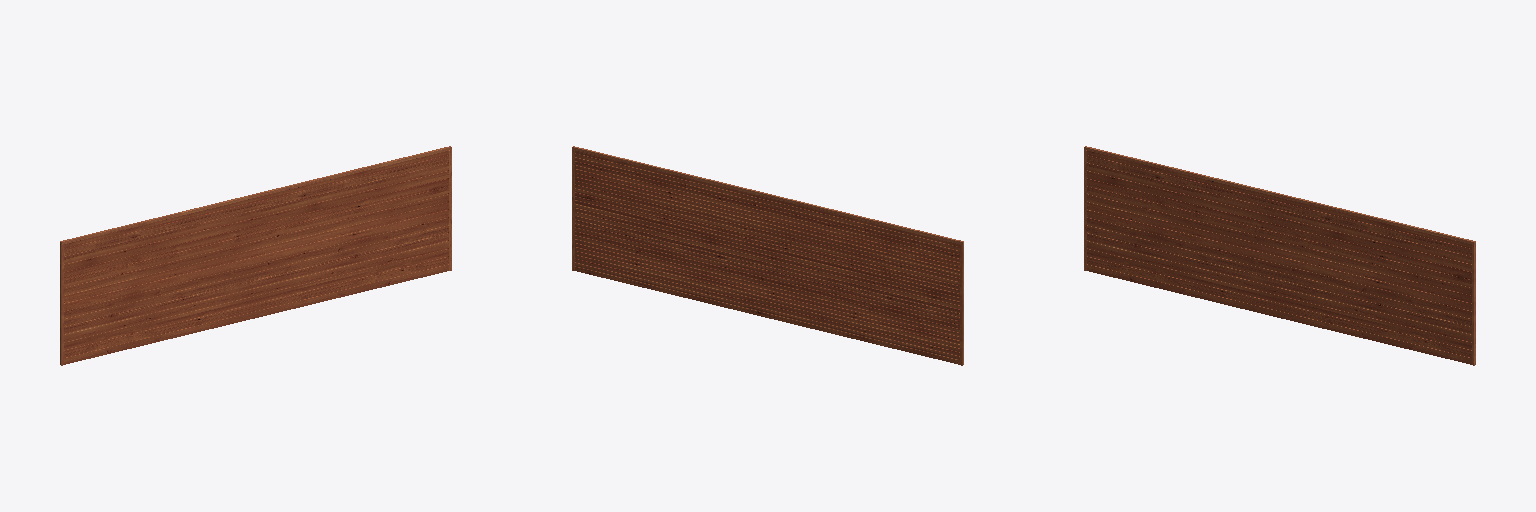
The picture shows the model from 3 angles: view 1: azimuth 30°, elevation 25°; view 2: azimuth 150°, elevation 25°; view 3: azimuth 330°, elevation 25°; orthographic projection.
Parts seen in each view (by area): view 1: wall_planks, trim_top; view 2: wall_planks, trim_top; view 3: wall_planks, trim_top.
Boxes of the visible parts, box(x1,y1,x2,y2) form: wall_planks: box(64, 151, 448, 364); trim_top: box(60, 146, 451, 244); wall_planks: box(575, 151, 959, 364); trim_top: box(572, 146, 963, 244); wall_planks: box(1087, 151, 1471, 364); trim_top: box(1084, 146, 1475, 244).
Bounding box in the file's own units: 312 × 94.5 × 1.82.
Materials: 2 (2 with a texture image).